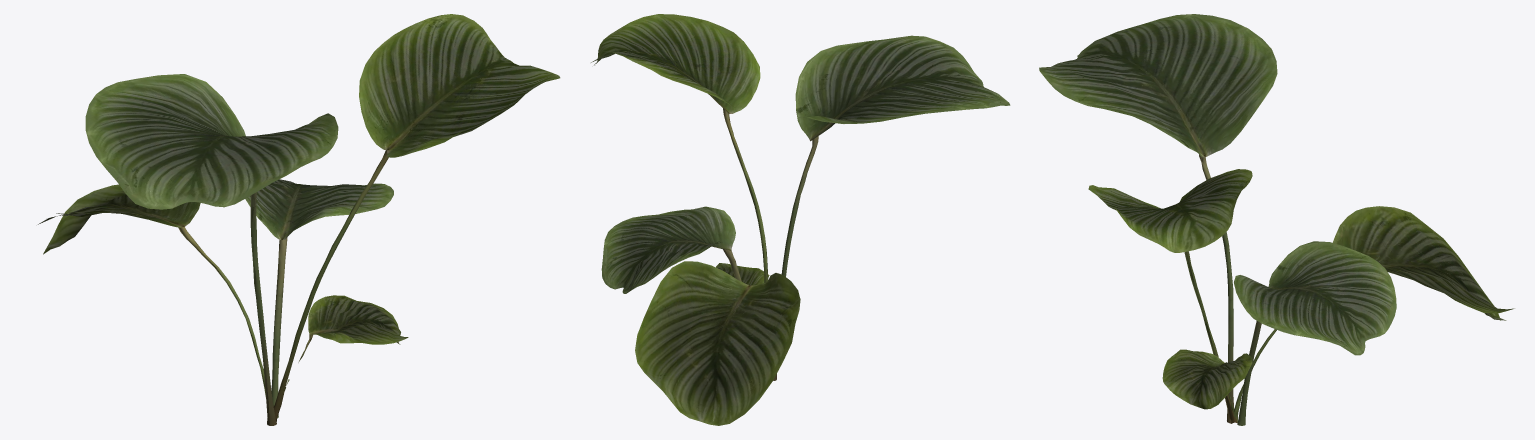
Rendered from calathea_2.glb.
3 renders of one model, left to right at view 1: azimuth 30°, elevation 25°; view 2: azimuth 150°, elevation 25°; view 3: azimuth 270°, elevation 25°, orthographic. The views are drawn at different scales.
Visible parts, largest first — view 1: calathea; view 2: calathea; view 3: calathea.
Boxes of the visible parts, x1,y1,x2,y2 form: calathea: (38, 14, 560, 425); calathea: (591, 14, 1010, 425); calathea: (1039, 14, 1514, 425).
Bounding box in the file's own units: 0.3752 × 0.2836 × 0.3838.
Materials: 1 (1 with a texture image).
